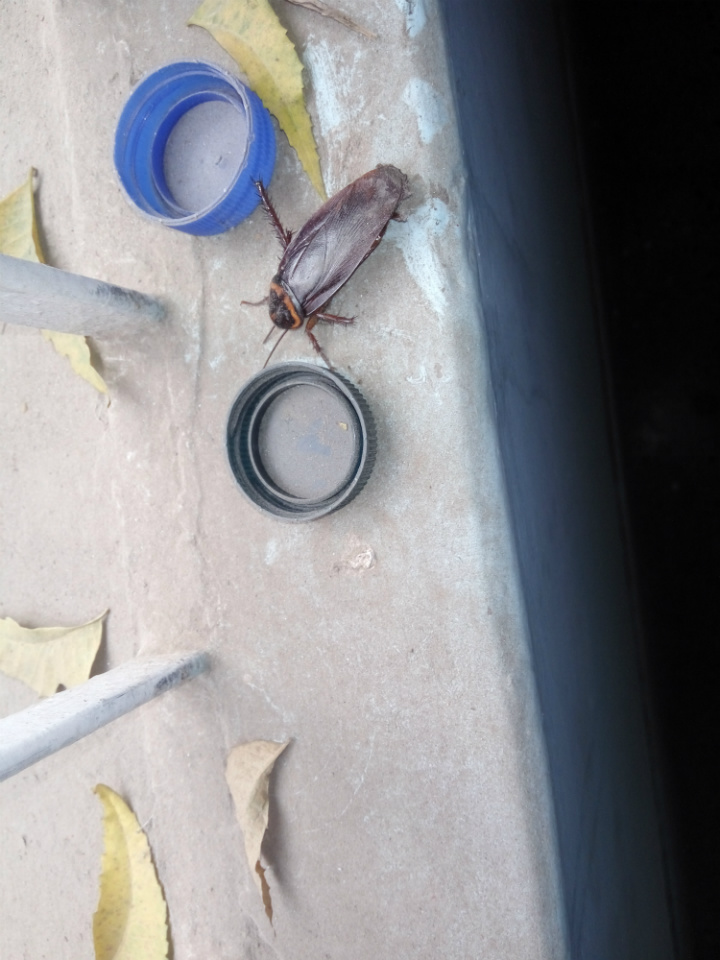cockroach: (53, 138, 493, 363)
